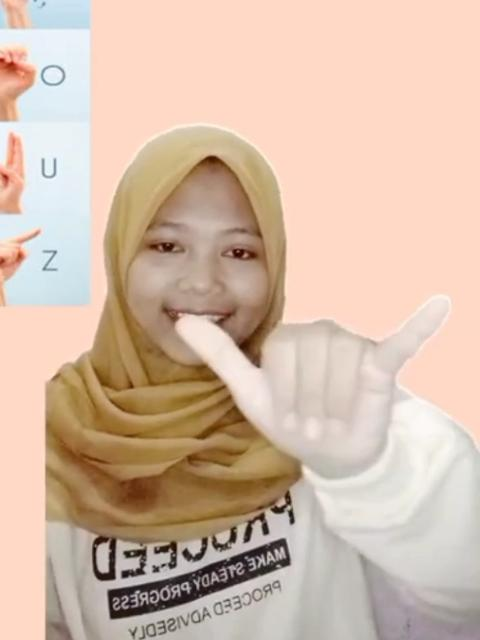Y: (172, 292, 450, 462)
